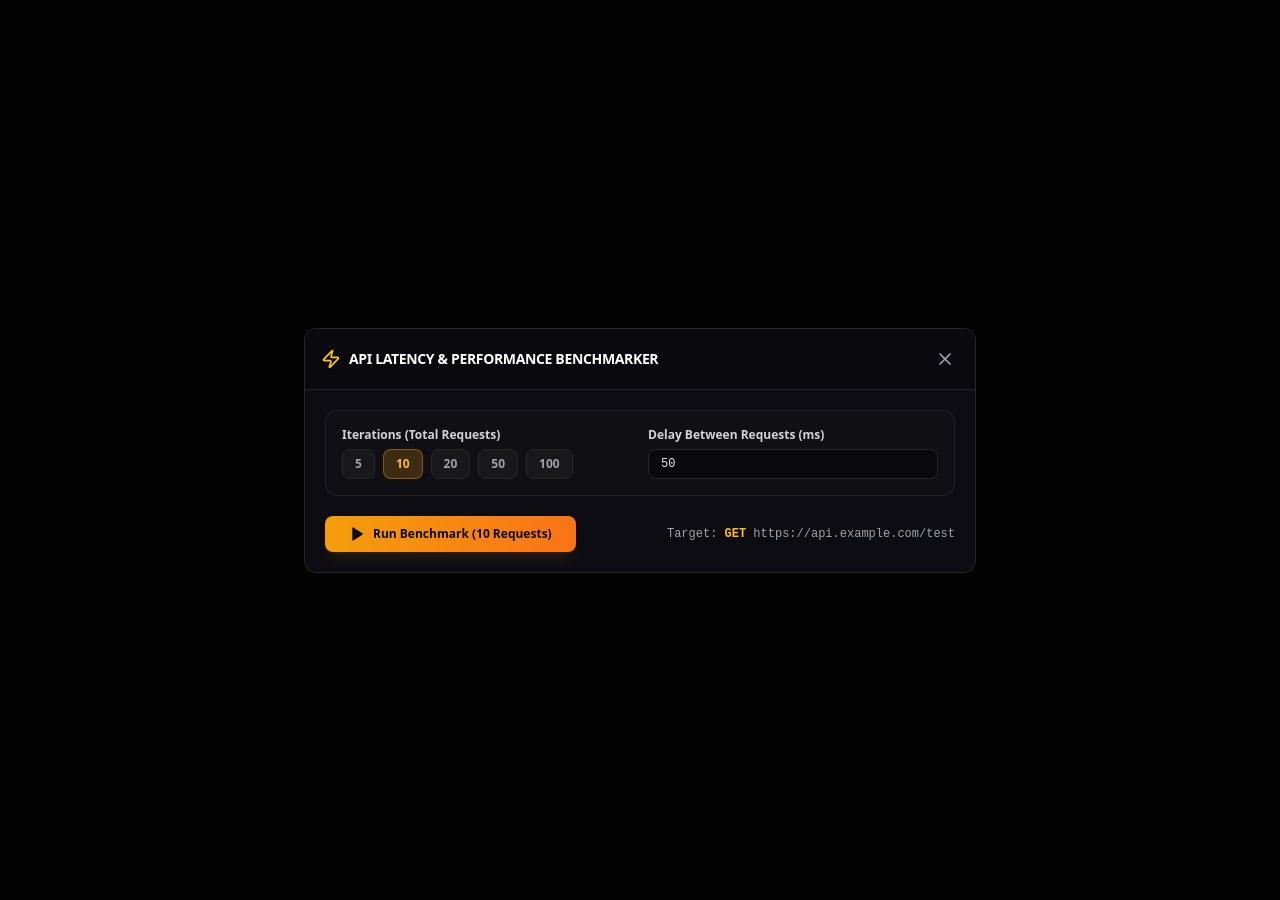
Test: BenchmarkModal › allows changing iteration selection
Click the button "20".
click(450, 464)  # box x1=431 y1=448 x2=470 y2=478
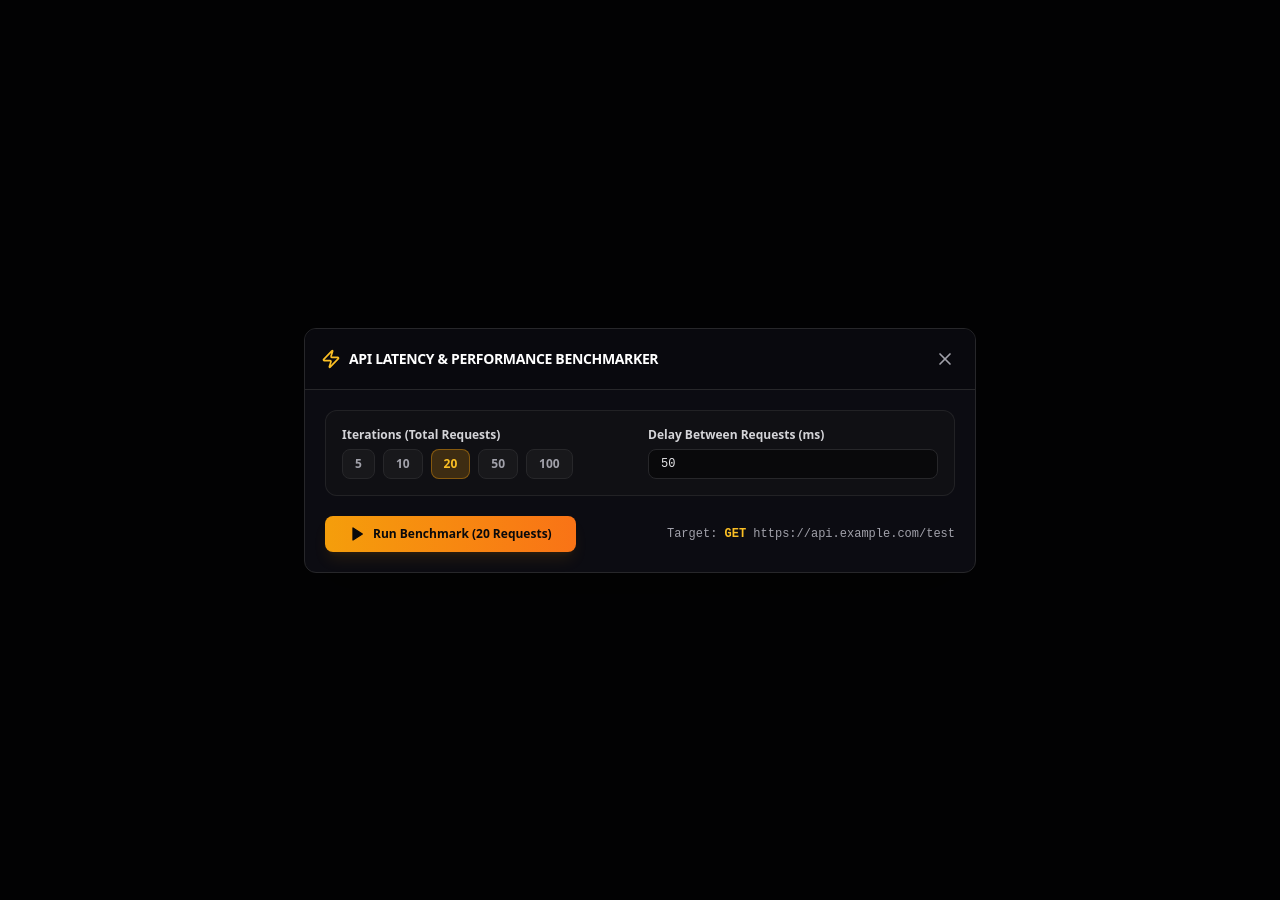
Expected: the button "Run Benchmark (20 Requests)" is shown, x1=325 y1=516 x2=576 y2=552
